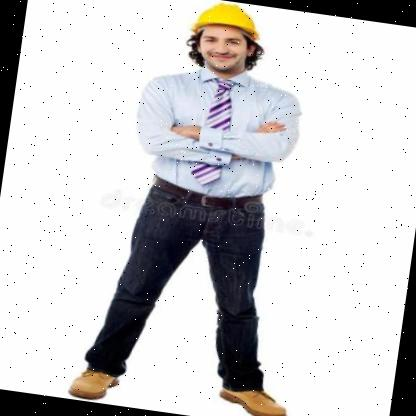bota: (210, 366, 294, 416), (63, 354, 126, 406)
capacete: (186, 0, 267, 80)
